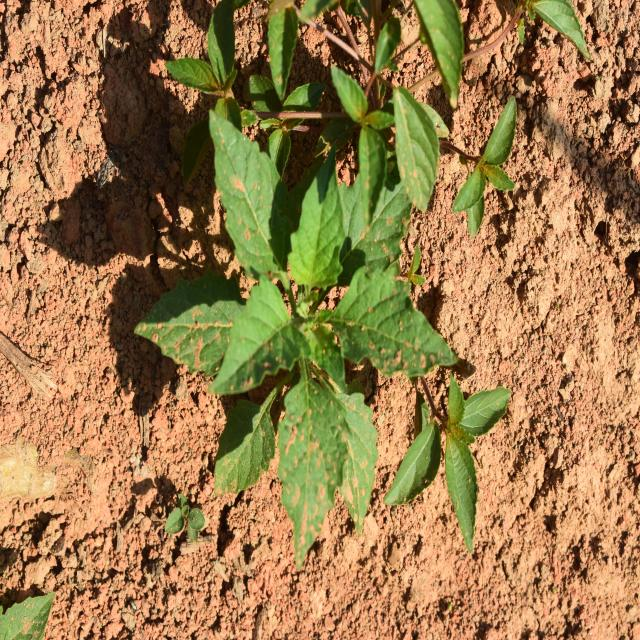Black_nightshade: (146, 108, 422, 536)
